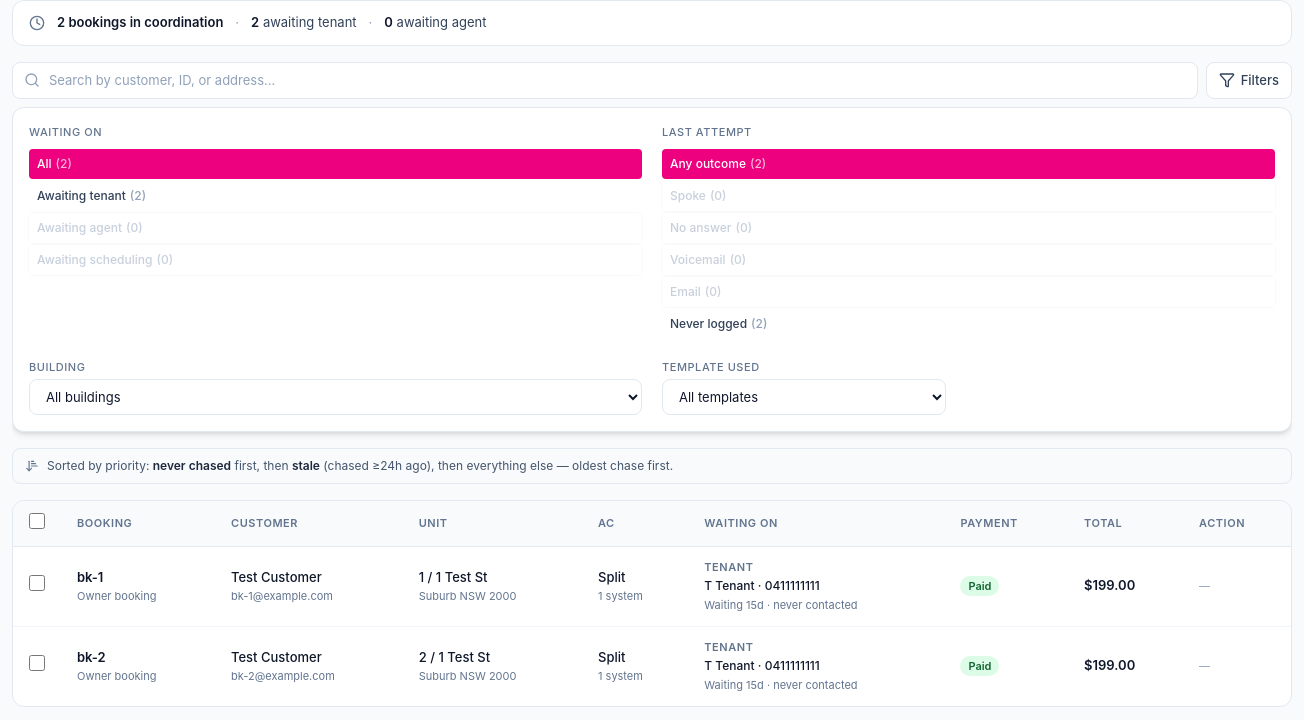
Test: AwaitingCoordinationView · bulk template picker keyboard nav › Escape closes the listbox without changing the selection
Click the checkbox with test id "checkbox-coordination-row-bk-1".
click(37, 583)  # box left=29, top=575, right=45, bottom=591
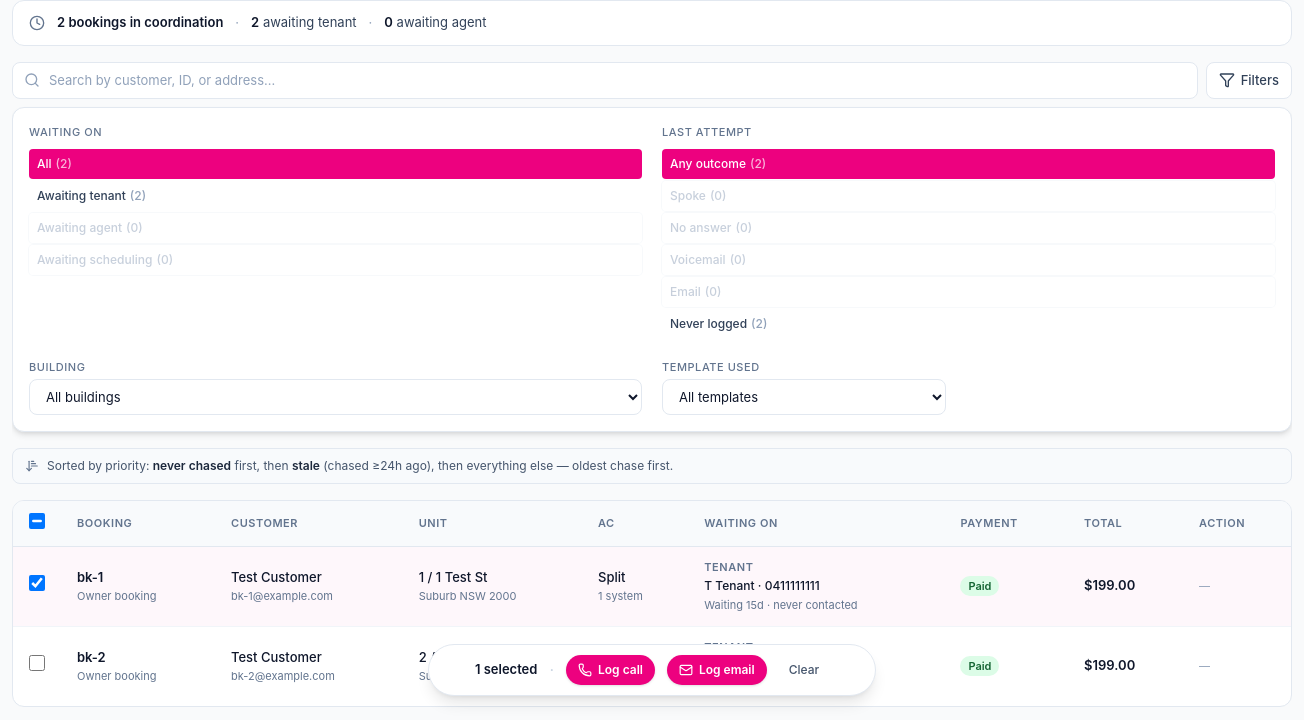
Click the checkbox with test id "checkbox-coordination-row-bk-2".
click(37, 663)  # box left=29, top=655, right=45, bottom=671
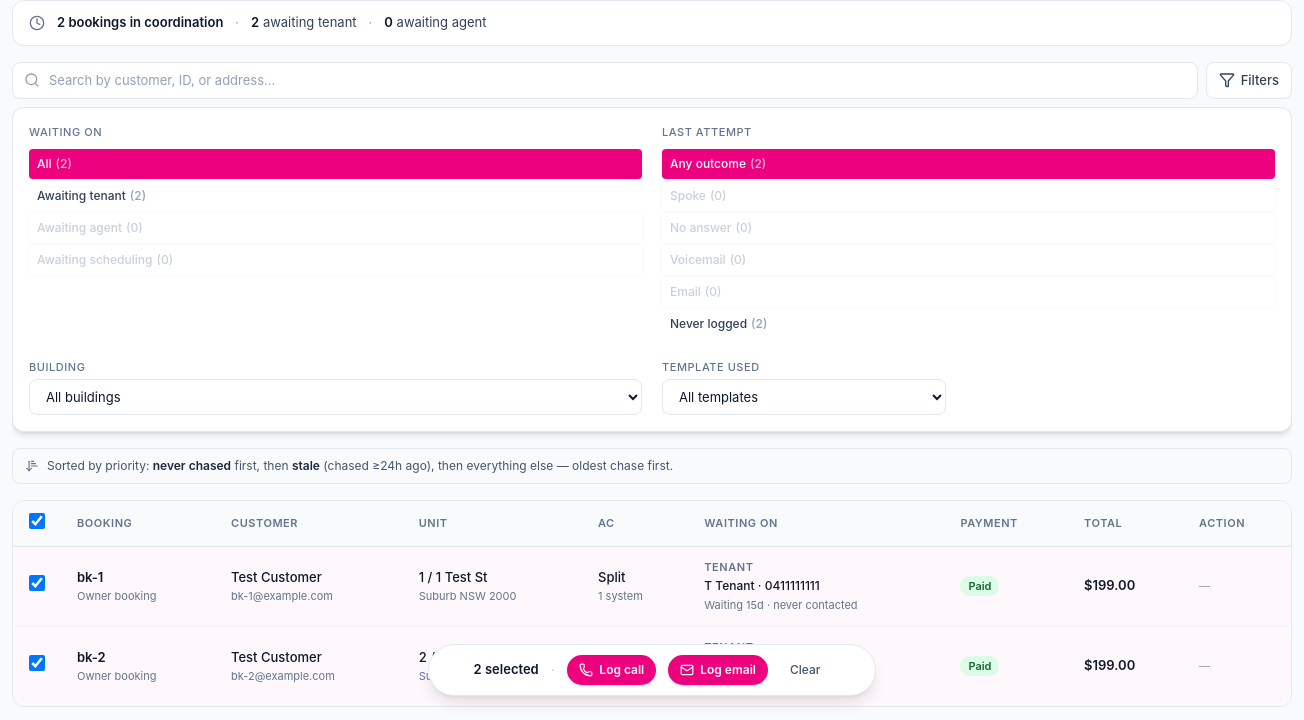
Click the button with test id "button-bulk-log-call".
click(612, 670)  # box left=567, top=655, right=656, bottom=685
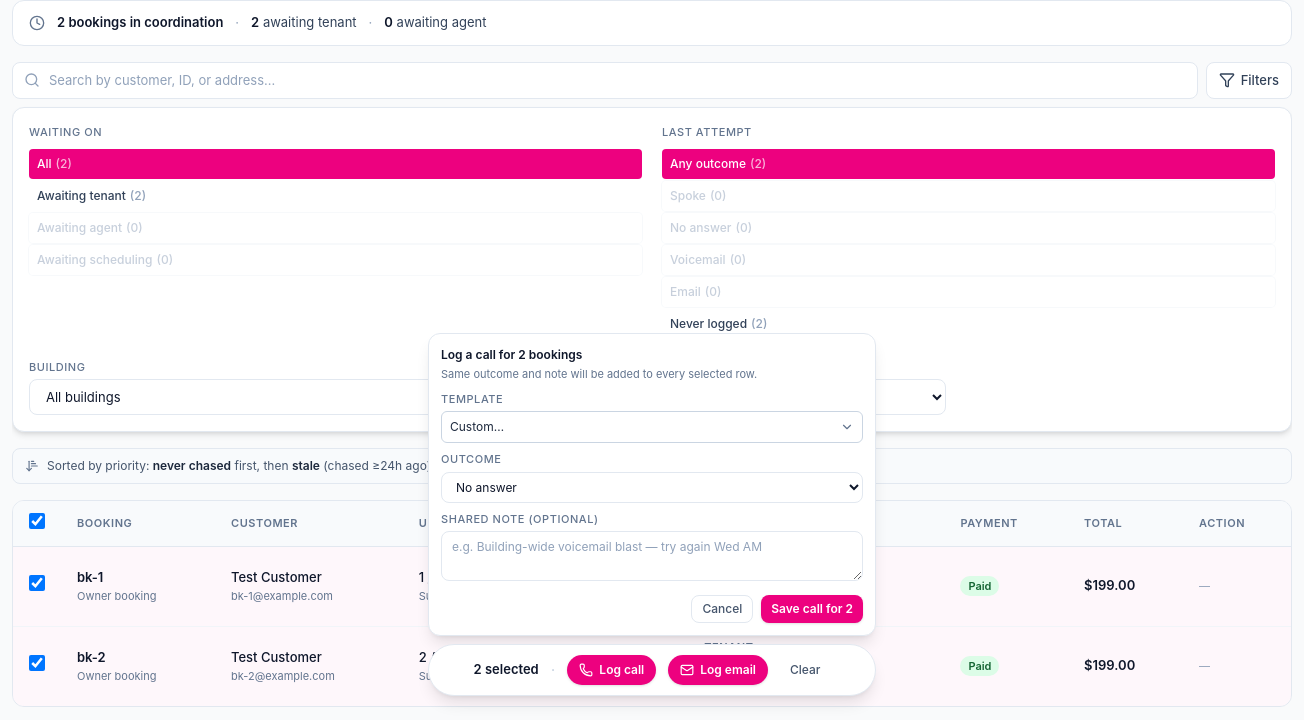
Press ArrowDown in the button with test id "trigger-bulk-call-template", box left=441, top=411, right=863, bottom=443
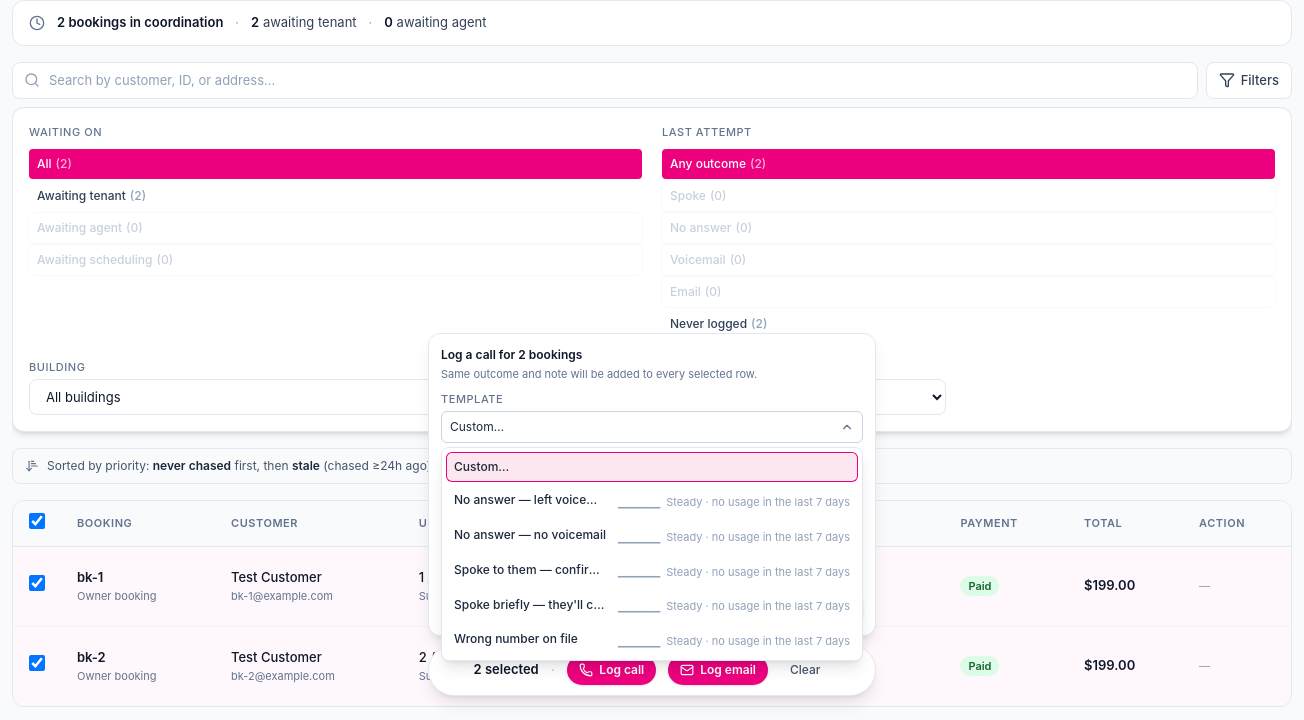
Press ArrowDown in the list with test id "option-bulk-call-template-listbox", box left=441, top=447, right=863, bottom=661
Press Escape in the list with test id "option-bulk-call-template-listbox", box left=441, top=447, right=863, bottom=661
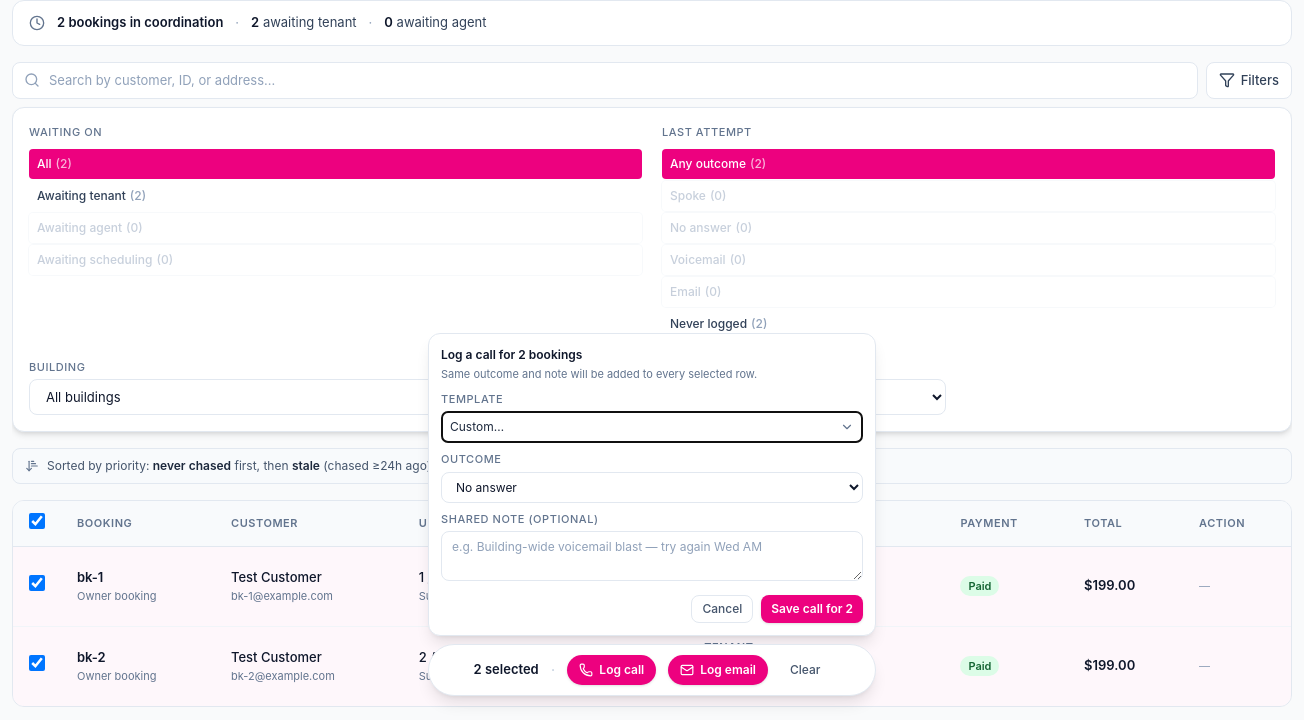
Expected: the label with test id "select-bulk-call-template" holds "custom", left=441, top=392, right=503, bottom=406
Expected: the list with test id "option-bulk-call-template-listbox" is gone
